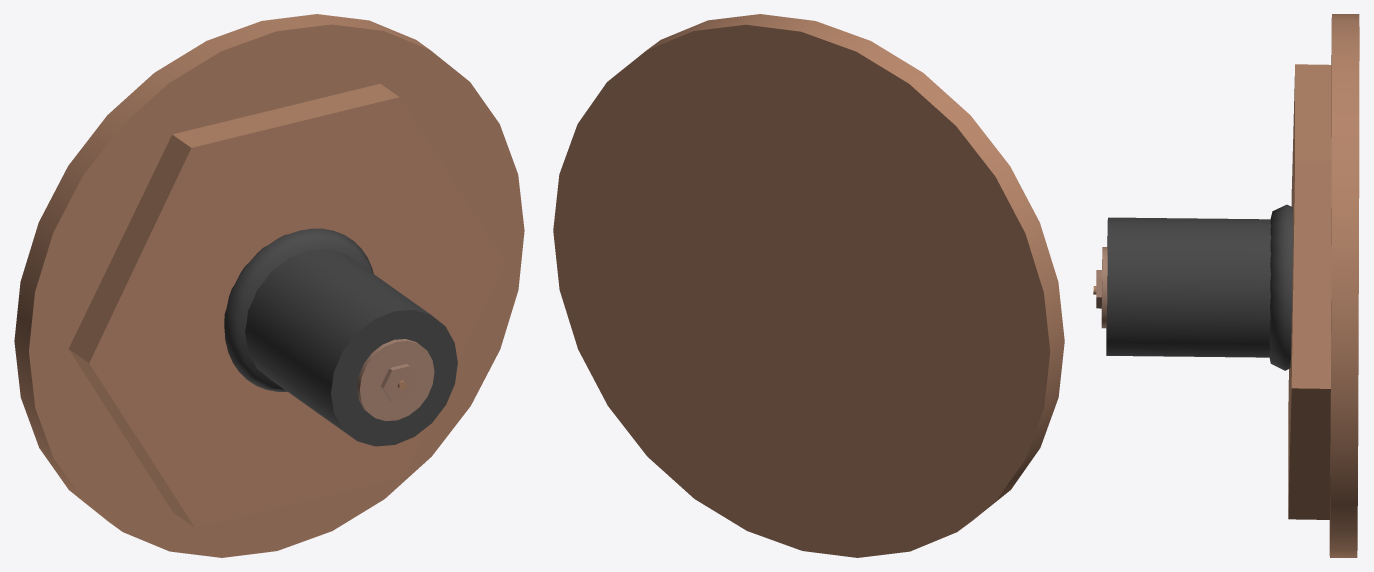
File: LVL_Support_Valve.fbx
3 views of the same model, side by side, from view 1: azimuth 30°, elevation 25°; view 2: azimuth 150°, elevation 25°; view 3: azimuth 270°, elevation 25° (orthographic). The views are drawn at different scales.
Visible parts, largest first — view 1: polySurface10; view 2: polySurface10; view 3: polySurface10.
Boxes of the visible parts, x1,y1,x2,y2 form: polySurface10: [14, 14, 524, 557]; polySurface10: [553, 14, 1064, 557]; polySurface10: [1093, 14, 1359, 557].
Size of the model in its own units: 458 by 458 by 224.
